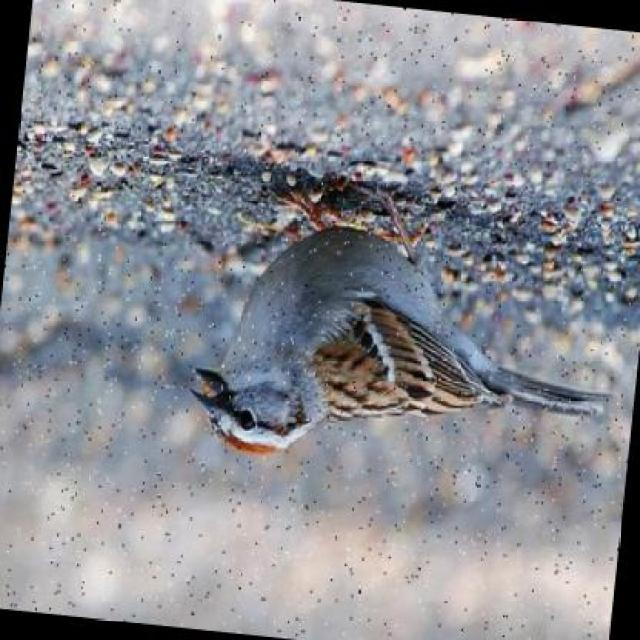Bird: (188, 219, 613, 463)
